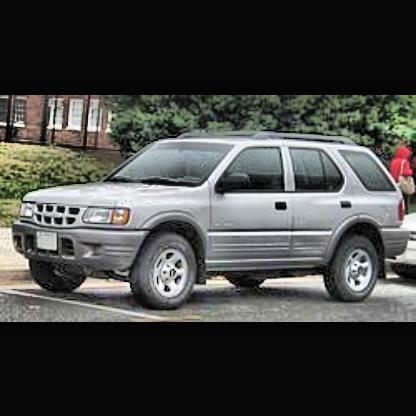Isuzu Ascender SUV 2008: (14, 131, 415, 305)
